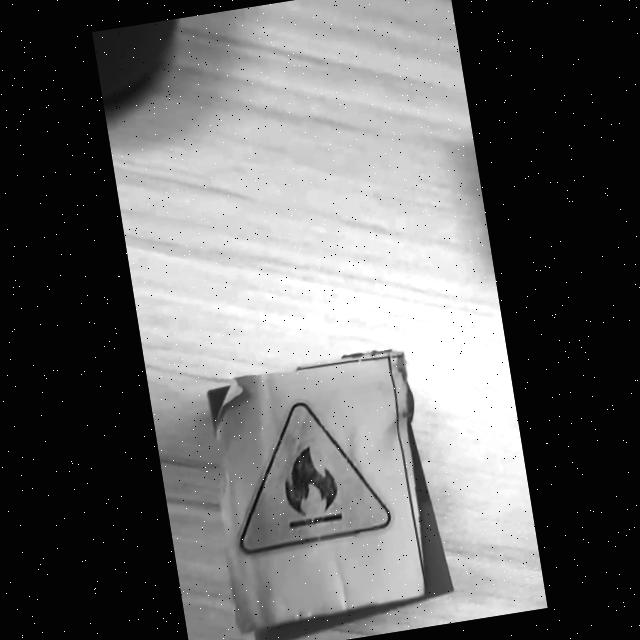Fire: (239, 402, 391, 557)
